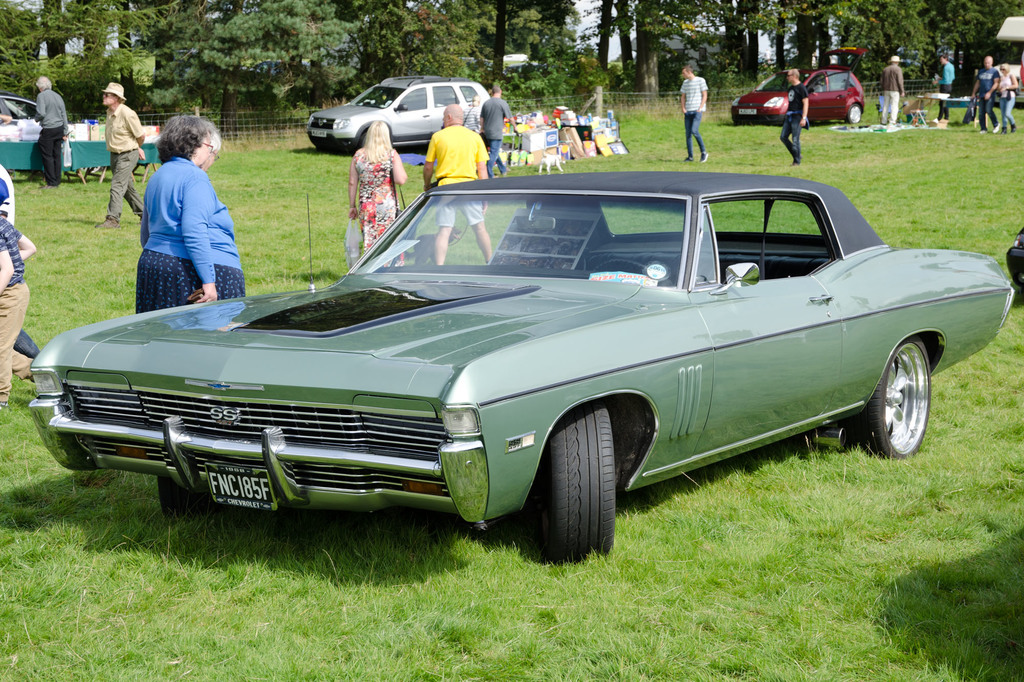Car: (23, 163, 1012, 562), (300, 72, 498, 156), (725, 62, 867, 127), (0, 92, 36, 115)
